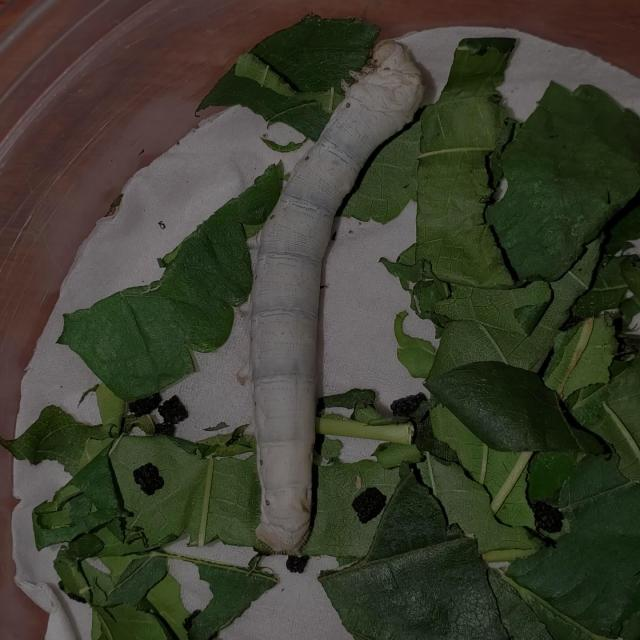Healthy: (235, 38, 438, 566)
